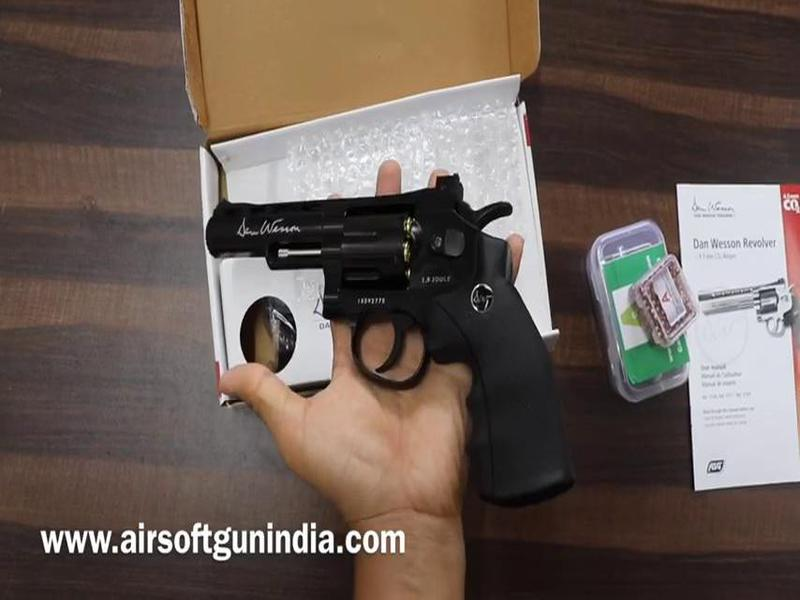Revolver: (197, 171, 603, 514)
